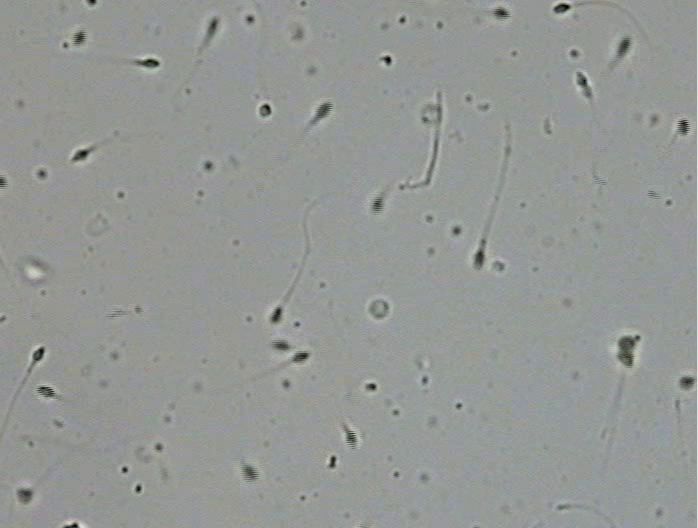Impurity: (368, 299, 389, 319)
S: (617, 336, 634, 368), (241, 465, 259, 483), (314, 102, 333, 119), (616, 37, 631, 57), (71, 31, 88, 46), (676, 119, 691, 136), (36, 386, 57, 398), (493, 6, 511, 20), (345, 430, 358, 449), (678, 376, 695, 390), (370, 197, 383, 215), (576, 71, 589, 88), (473, 250, 484, 270), (206, 18, 218, 36), (272, 339, 290, 351), (291, 351, 309, 363), (72, 149, 89, 161), (270, 306, 282, 323), (16, 490, 32, 502), (141, 58, 160, 68), (33, 347, 45, 362), (553, 3, 571, 13), (259, 104, 272, 117), (1, 175, 8, 189), (86, 1, 97, 6)
